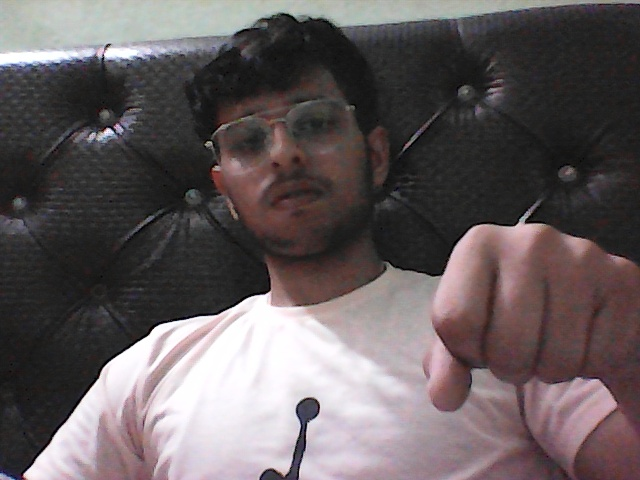yes: (397, 178, 640, 412)
